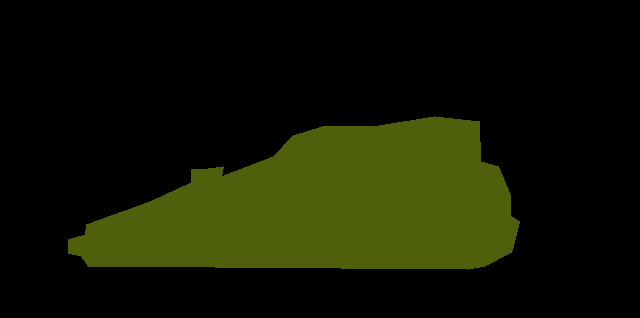Train: (68, 116, 520, 270)
